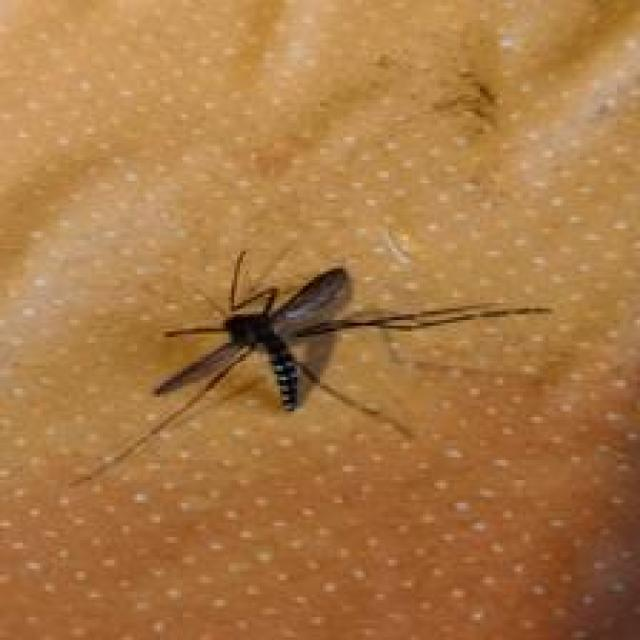Aedes albopictus: (67, 246, 553, 488)
